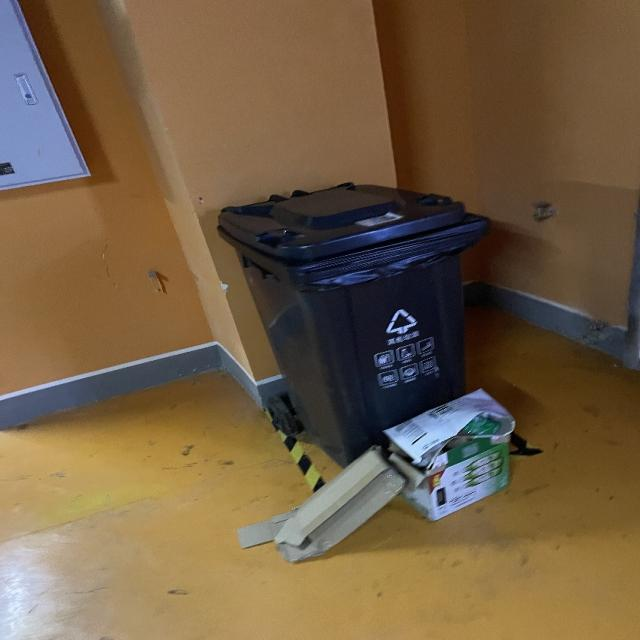garbage: (237, 389, 515, 565)
garbage_bin: (216, 181, 489, 468)
